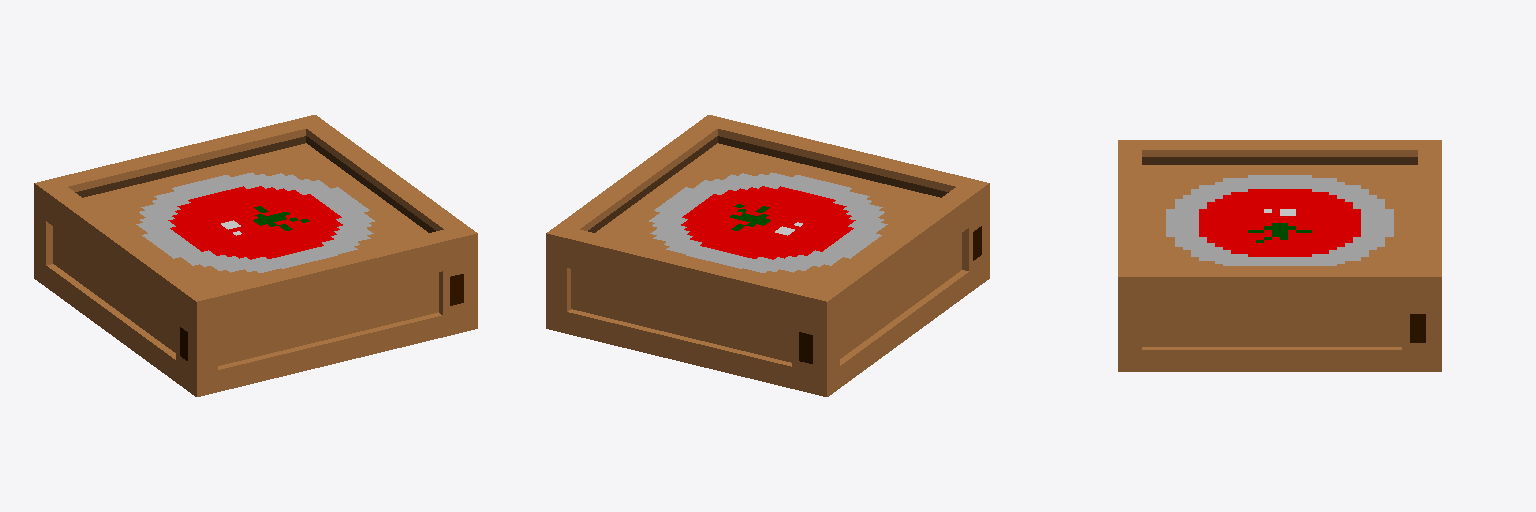
The picture shows the model from 3 angles: view 1: azimuth 30°, elevation 25°; view 2: azimuth 150°, elevation 25°; view 3: azimuth 270°, elevation 25°; orthographic projection.
Visible parts, largest first — view 1: object 1; view 2: object 1; view 3: object 1.
Boxes of the visible parts, x1,y1,x2,y2 form: object 1: [34, 115, 477, 396]; object 1: [546, 115, 989, 396]; object 1: [1118, 140, 1441, 371].
Bounding box in the file's own units: 4 × 1.3 × 4.
Materials: 1 (1 with a texture image).